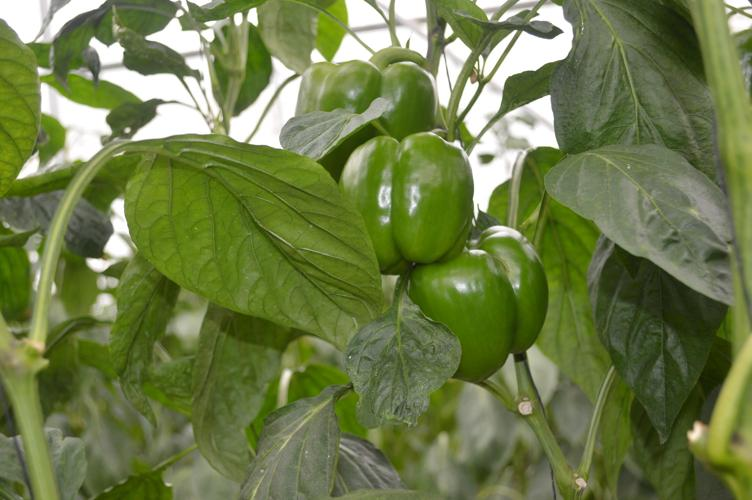BellPepper: (401, 223, 543, 379), (341, 133, 473, 272), (296, 62, 434, 166)
